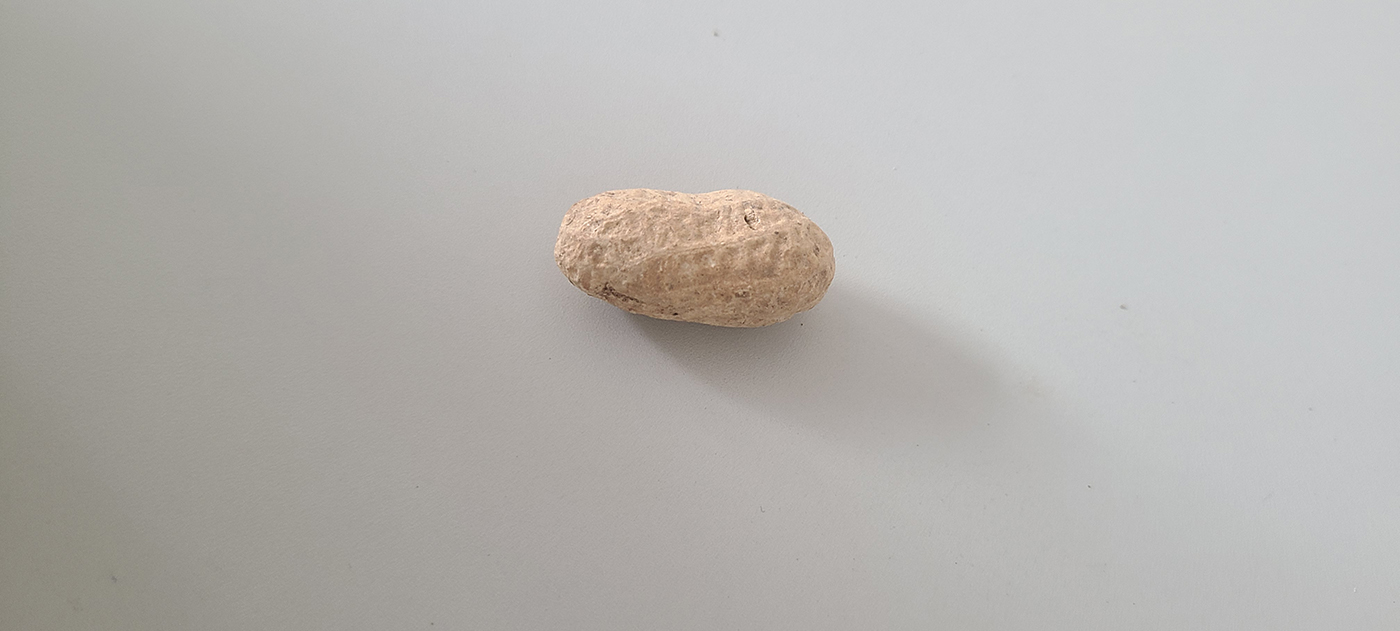h: (547, 184, 836, 326)
